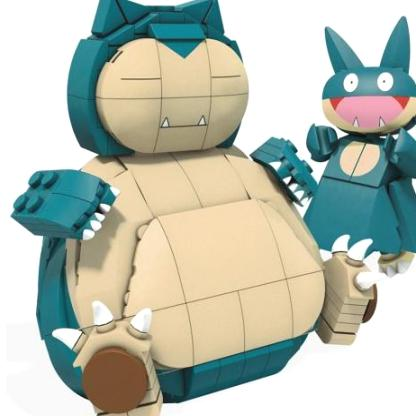Relaxo: (1, 0, 415, 416)
